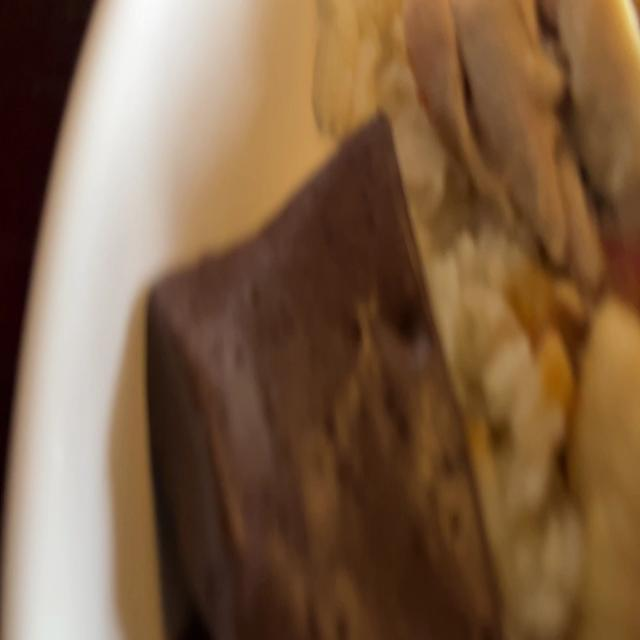chicken_rice: (424, 0, 640, 239)
noodle: (149, 114, 492, 640)
